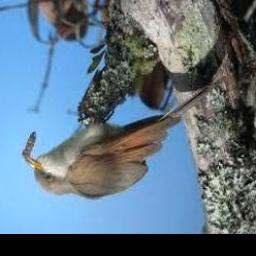Cuckoo: (26, 83, 213, 199)
